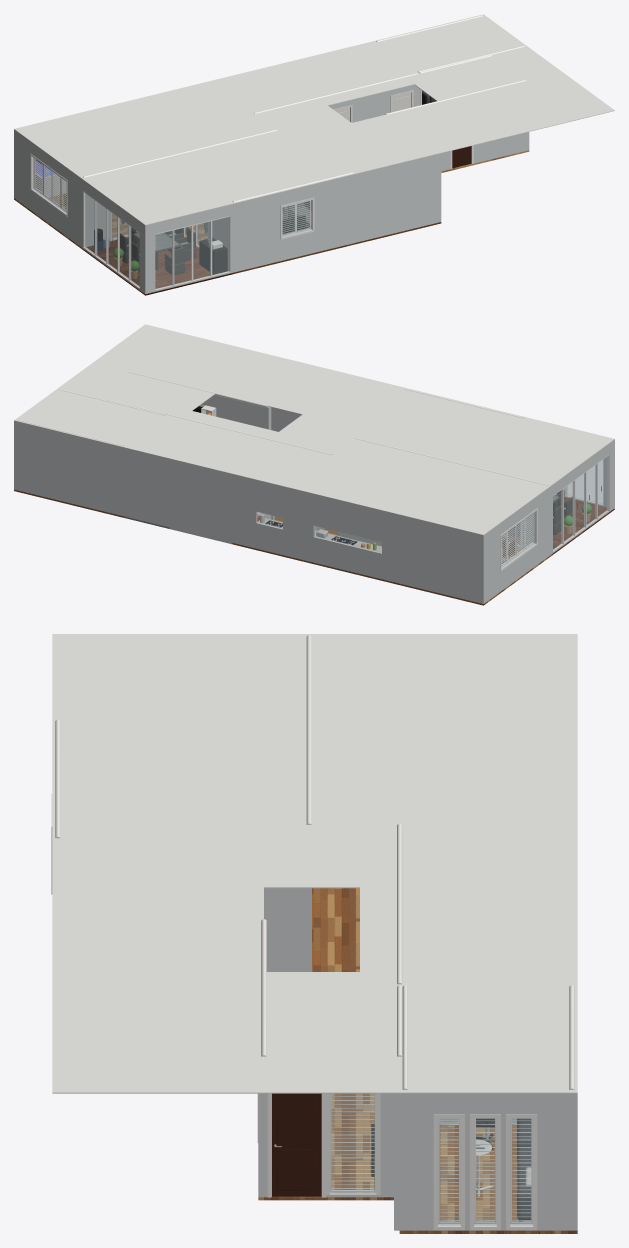
File: ground.glb
3 renders of one model, top to bottom at view 1: azimuth 30°, elevation 25°; view 2: azimuth 150°, elevation 25°; view 3: azimuth 270°, elevation 25°, orthographic. The views are drawn at different scales.
Visible parts, largest first — view 1: Ground_Ceiling-col, Ground_Walls-col, Ground_Window_Glass-col, Ground_Trim, Ground_Sunroom_Frames-col, Ground_Floor-col, Ground_Sunroom_Deck-col, Ground_Shutters, Ground_Sunroom_Props, Ground_Patio_Table-col, Ground_Aquarium-col, Ground_Front_Door-col (+1 smaller); view 2: Ground_Ceiling-col, Ground_Walls-col, Ground_Window_Glass-col, Ground_Trim, Ground_Floor-col, Ground_Sunroom_Frames-col, Ground_Shutters, Ground_Sunroom_Deck-col, Ground_Kitchen-col; view 3: Ground_Ceiling-col, Ground_Walls-col, Ground_Floor-col, Ground_Window_Glass-col, Ground_Trim, Ground_Front_Door-col, Ground_Shutters.
Boxes of the visible parts, x1=… form: Ground_Ceiling-col: x1=14, y1=14, x2=614, y2=225; Ground_Walls-col: x1=14, y1=85, x2=529, y2=293; Ground_Window_Glass-col: x1=33, y1=157, x2=311, y2=289; Ground_Trim: x1=30, y1=15, x2=525, y2=239; Ground_Sunroom_Frames-col: x1=83, y1=191, x2=230, y2=289; Ground_Floor-col: x1=14, y1=150, x2=529, y2=295; Ground_Sunroom_Deck-col: x1=87, y1=237, x2=228, y2=288; Ground_Shutters: x1=34, y1=159, x2=310, y2=235; Ground_Sunroom_Props: x1=94, y1=228, x2=227, y2=278; Ground_Patio_Table-col: x1=131, y1=232, x2=182, y2=270; Ground_Aquarium-col: x1=36, y1=160, x2=66, y2=196; Ground_Front_Door-col: x1=450, y1=145, x2=473, y2=169; Ground_Ceiling-col: x1=14, y1=324, x2=614, y2=535; Ground_Walls-col: x1=14, y1=395, x2=614, y2=603; Ground_Window_Glass-col: x1=257, y1=456, x2=607, y2=567; Ground_Trim: x1=17, y1=371, x2=548, y2=571; Ground_Floor-col: x1=14, y1=489, x2=614, y2=605; Ground_Sunroom_Frames-col: x1=553, y1=455, x2=608, y2=550; Ground_Shutters: x1=501, y1=513, x2=533, y2=565; Ground_Sunroom_Deck-col: x1=508, y1=497, x2=606, y2=549; Ground_Kitchen-col: x1=315, y1=526, x2=381, y2=552; Ground_Ceiling-col: x1=52, y1=634, x2=577, y2=1093; Ground_Walls-col: x1=258, y1=888, x2=577, y2=1230; Ground_Floor-col: x1=258, y1=888, x2=577, y2=1233; Ground_Window_Glass-col: x1=330, y1=1094, x2=532, y2=1225; Ground_Trim: x1=51, y1=635, x2=574, y2=1230; Ground_Front_Door-col: x1=257, y1=1093, x2=325, y2=1197; Ground_Shutters: x1=329, y1=1093, x2=532, y2=1223.
Size of the model in its own units: 19.23 by 2.79 by 9.31.
Materials: 69 (4 with a texture image).
